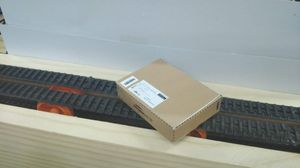box2: (115, 57, 222, 142)
